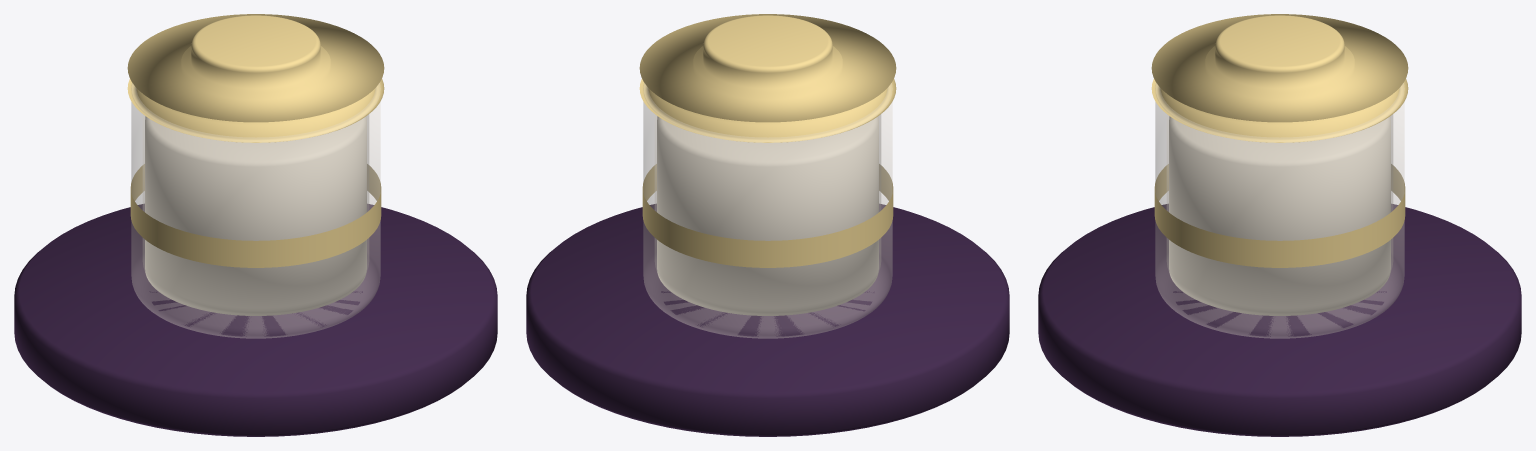
Rendered from zta-candle.glb.
3 renders of one model, left to right at view 1: azimuth 30°, elevation 25°; view 2: azimuth 150°, elevation 25°; view 3: azimuth 270°, elevation 25°, orthographic.
Parts seen in each view (by area): view 1: Pedestal, Glass, Wax, Lid, Band; view 2: Pedestal, Glass, Wax, Lid, Band; view 3: Pedestal, Glass, Wax, Lid, Band.
Boxes of the visible parts, x1,y1,x2,y2 form: Pedestal: (14,204,497,436); Glass: (131,83,380,338); Wax: (145,116,366,315); Lid: (127,14,384,142); Band: (130,164,381,267); Pedestal: (526,204,1009,436); Glass: (643,83,892,338); Wax: (657,116,878,315); Lid: (639,14,896,142); Band: (642,164,893,267); Pedestal: (1038,204,1521,436); Glass: (1155,83,1404,338); Wax: (1169,116,1390,315); Lid: (1151,14,1408,142); Band: (1154,164,1405,267).
Bounding box in the file's own units: 1.94 × 1.31 × 1.94.
